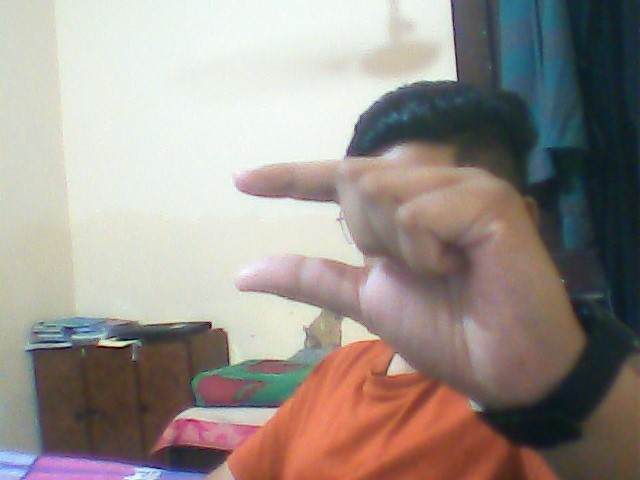small: (229, 157, 573, 360)
